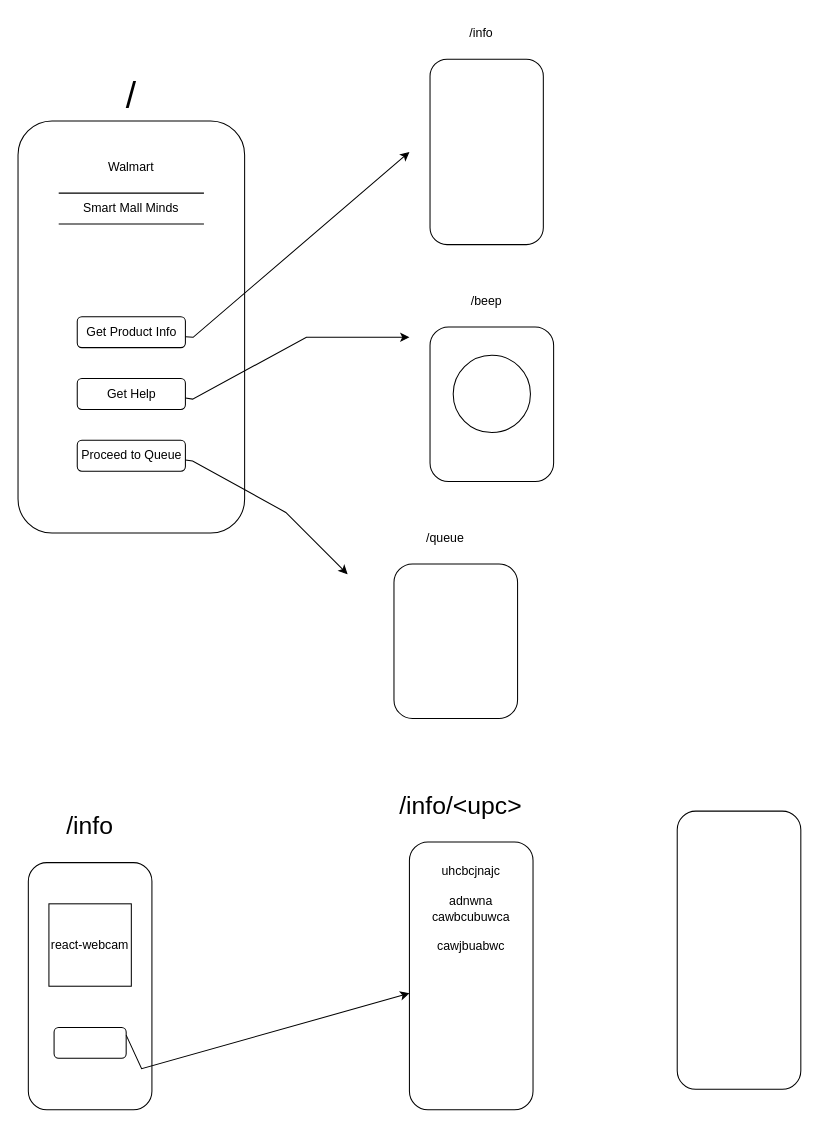
The diagram is 819 pixels wide and 1128 high, and some of its shapes have lost their labels. The centre of each missing label's shape, as x and y in pixels:
/handlesubmit(): [89,1042]
q1 - q2 - q3 -: [738,949]
